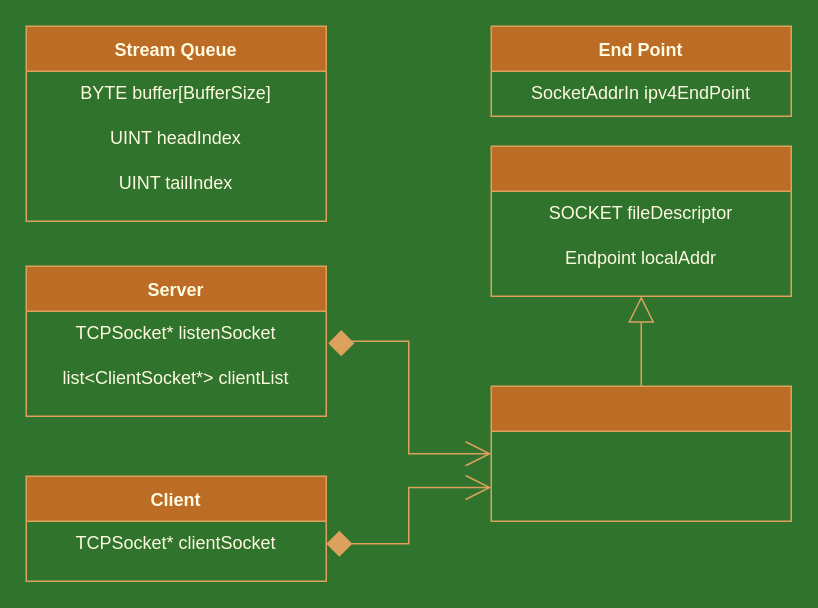
Image size: 818x608. Some labels were removed from this diagram. The box of each missing label's shape, as (x1, y1, x2, y2) in pixels:
Socket Interface: (490, 145, 791, 296)
TCP Socket: (490, 385, 791, 521)
